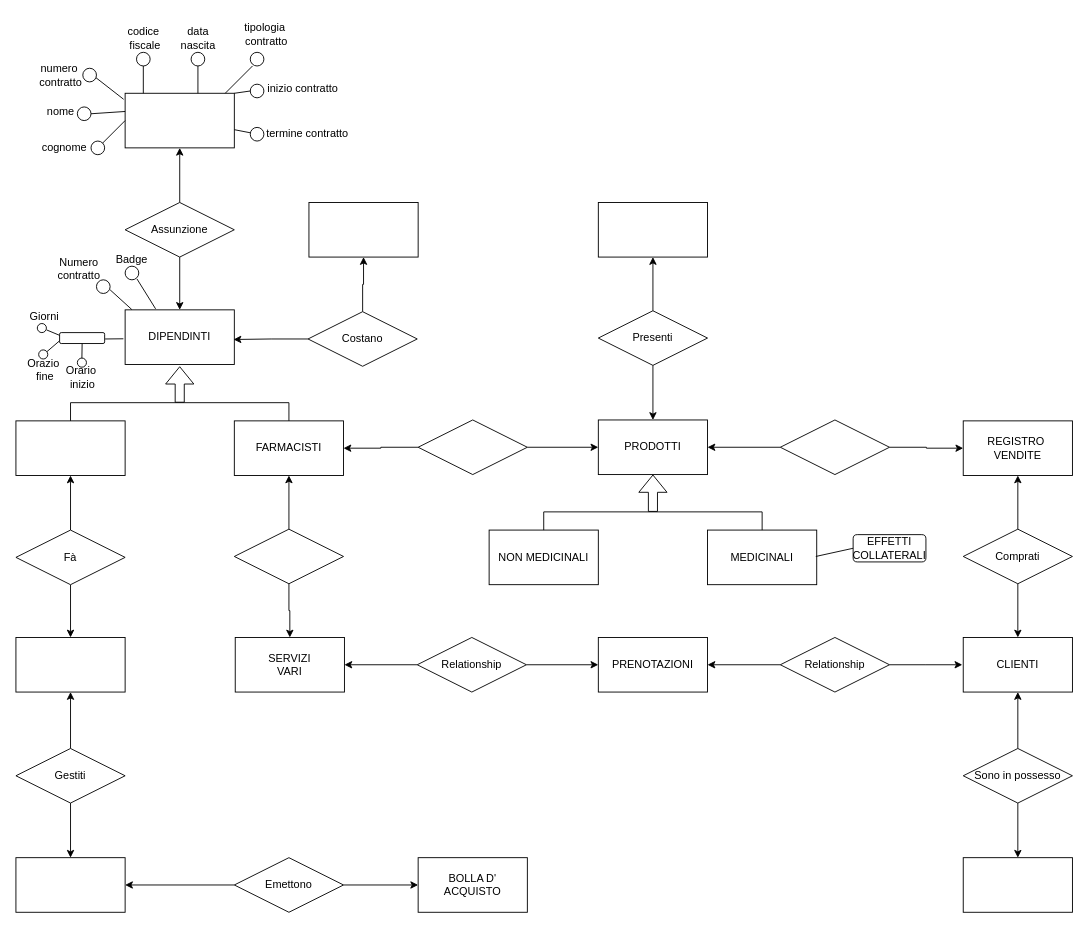
The diagram is 1088 pixels wide and 928 high, and some of its shapes have lost their labels. The shapes that lost their labels are listed below. From the top down, each one's centre as x and y in pixels, then its label:
At (x=179, y=120): "CONTRATTI".
At (x=363, y=229): "REGISTRO CONTABILE".
At (x=652, y=229): "MAGAZZINO".
At (x=82, y=338): "TURNO".
At (x=70, y=447): "RESPONSABILE".
At (x=472, y=447): "Vendono".
At (x=834, y=447): "Venduti".
At (x=288, y=556): "Praticano".
At (x=70, y=664): "ORDINI".
At (x=70, y=884): "FORNITORI".
At (x=1017, y=884): "RICETTA".
